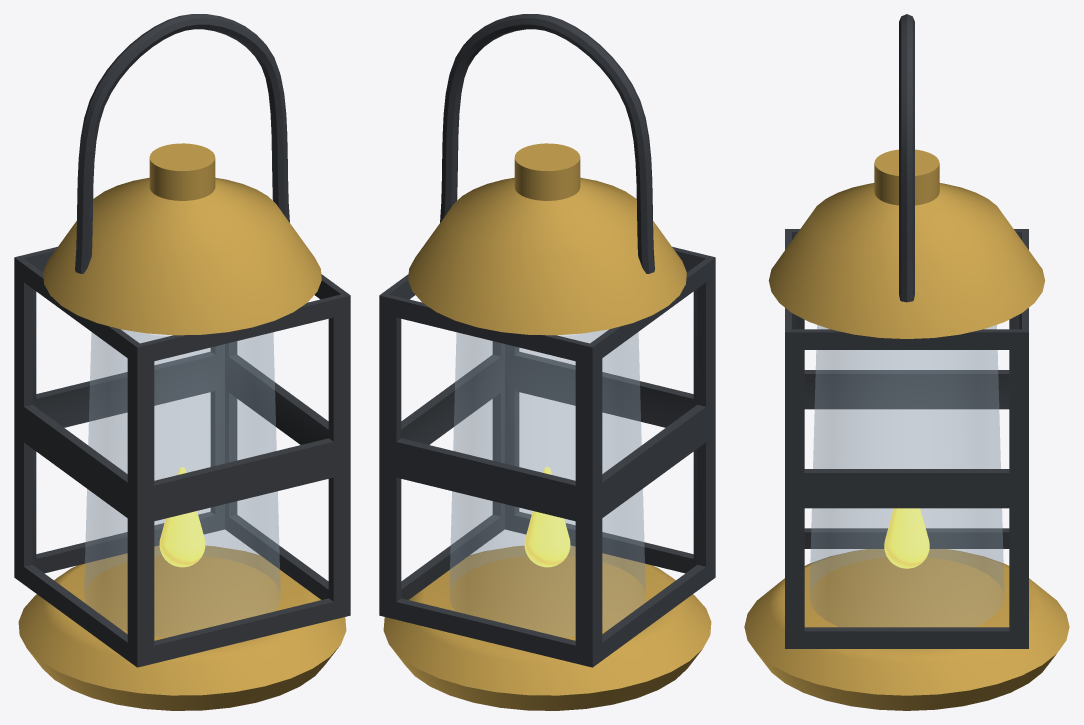
The model's file is lantern.gltf.
3 views of the same model, side by side, from view 1: azimuth 30°, elevation 25°; view 2: azimuth 150°, elevation 25°; view 3: azimuth 270°, elevation 25° (orthographic).
Parts seen in each view (by area): view 1: Lantern; view 2: Lantern; view 3: Lantern.
Part boxes in pixels (<box>): Lantern: <box>14,14,350,710</box>; Lantern: <box>379,14,715,710</box>; Lantern: <box>744,14,1069,710</box>.
Bounding box in the file's own units: 0.2 × 0.425 × 0.2.
